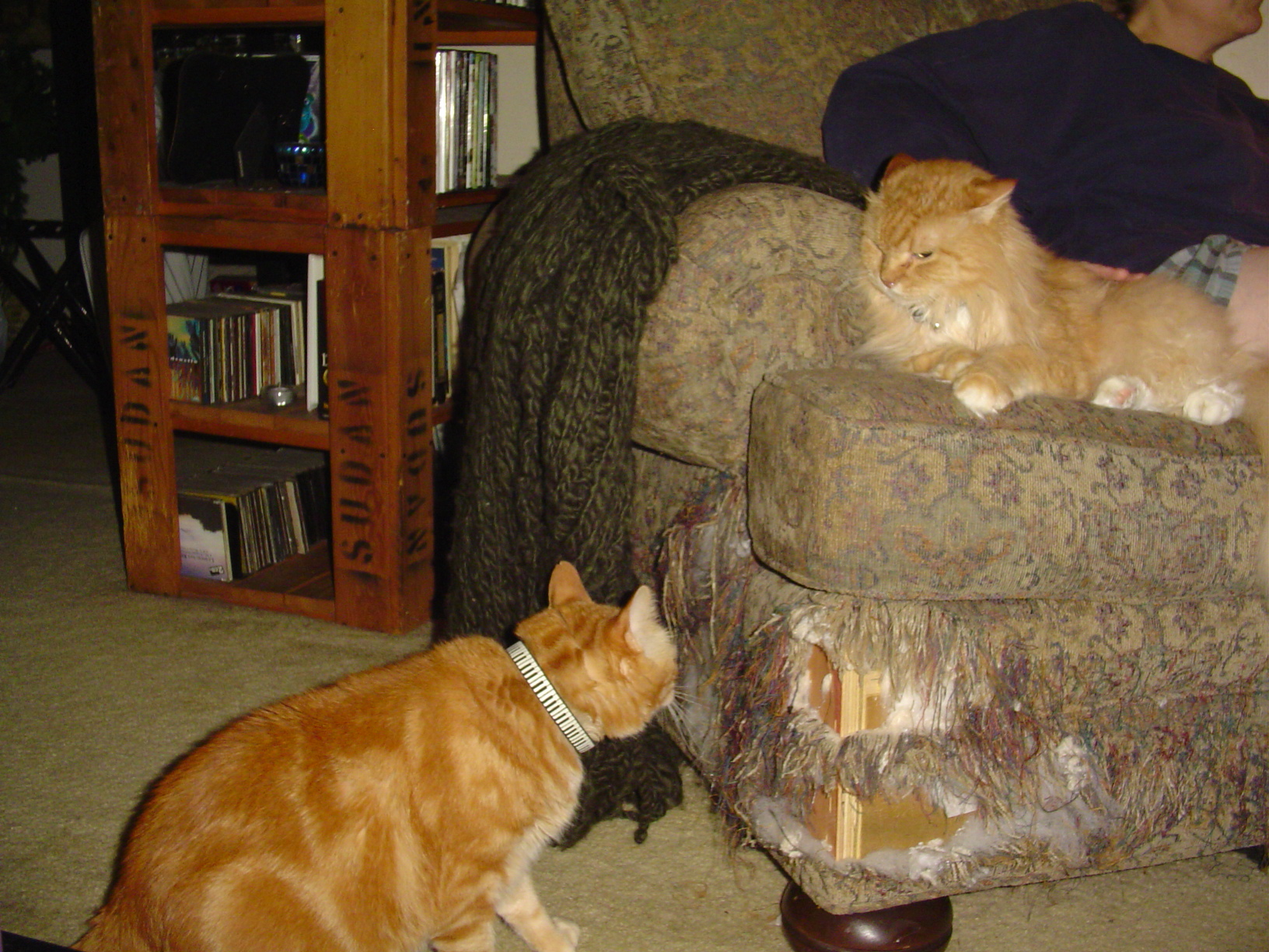cat: (64, 561, 682, 951), (848, 158, 1243, 416)
